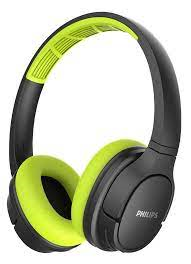headphone: (2, 10, 184, 258)
